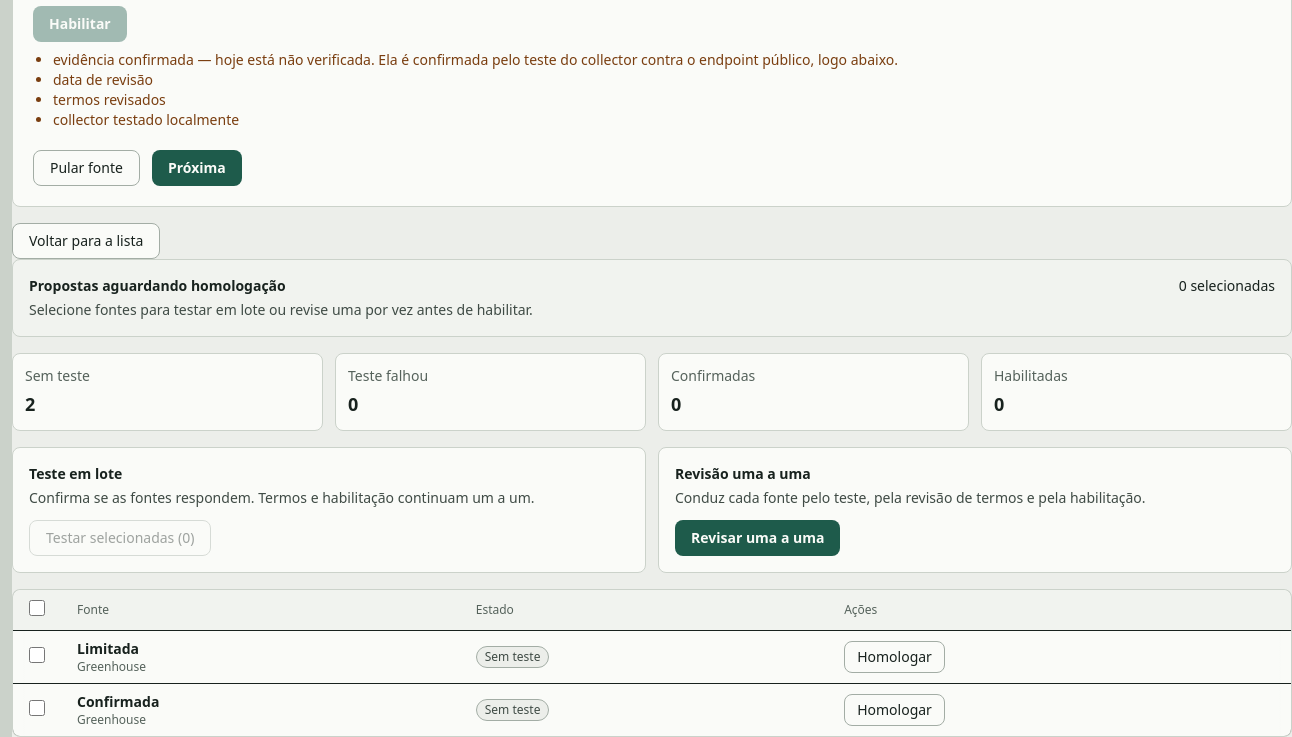
HomologationQueue › lote de sondas respeita Retry-After e mostra resultado por linha
(page scrolled)
Check: the checkbox named "Selecionar Confirmada" is shown, box [29, 700, 45, 716]
Click the checkbox named "Selecionar Limitada": (37, 654) [29, 646, 45, 662]
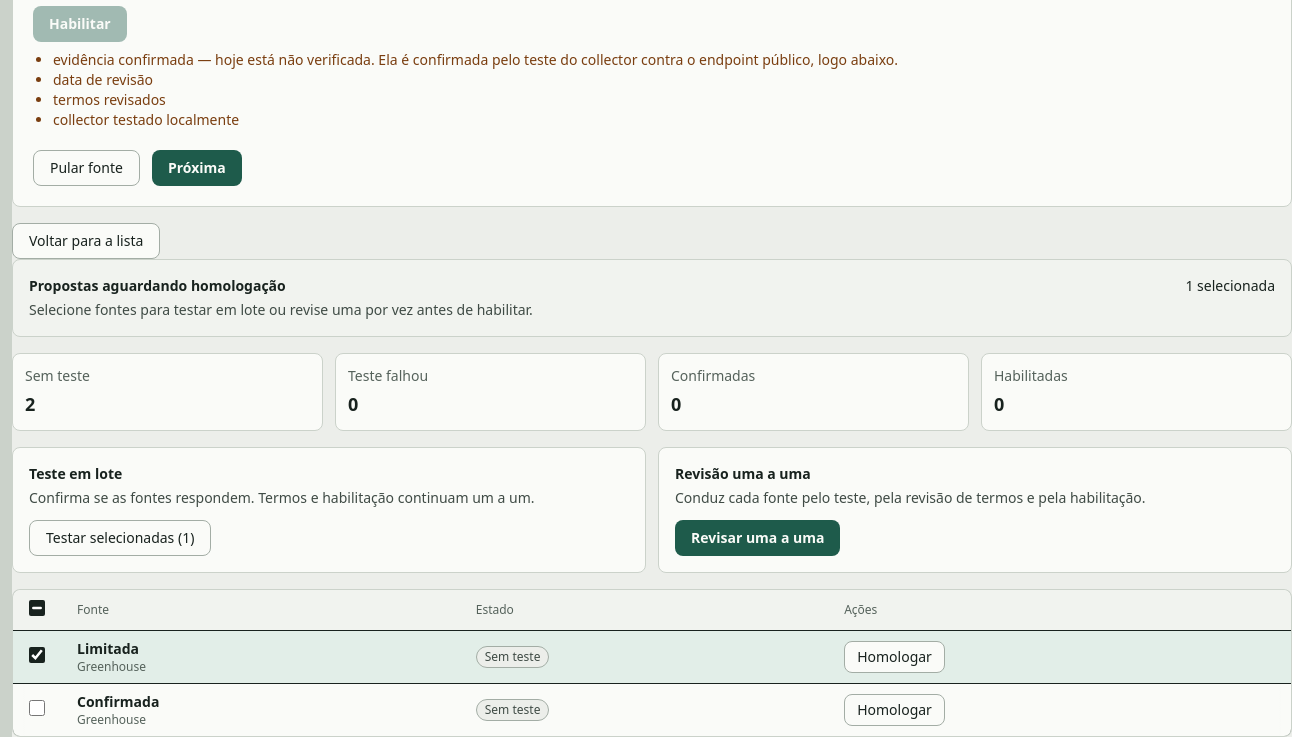
Click the checkbox named "Selecionar Confirmada": (37, 708) [29, 700, 45, 716]
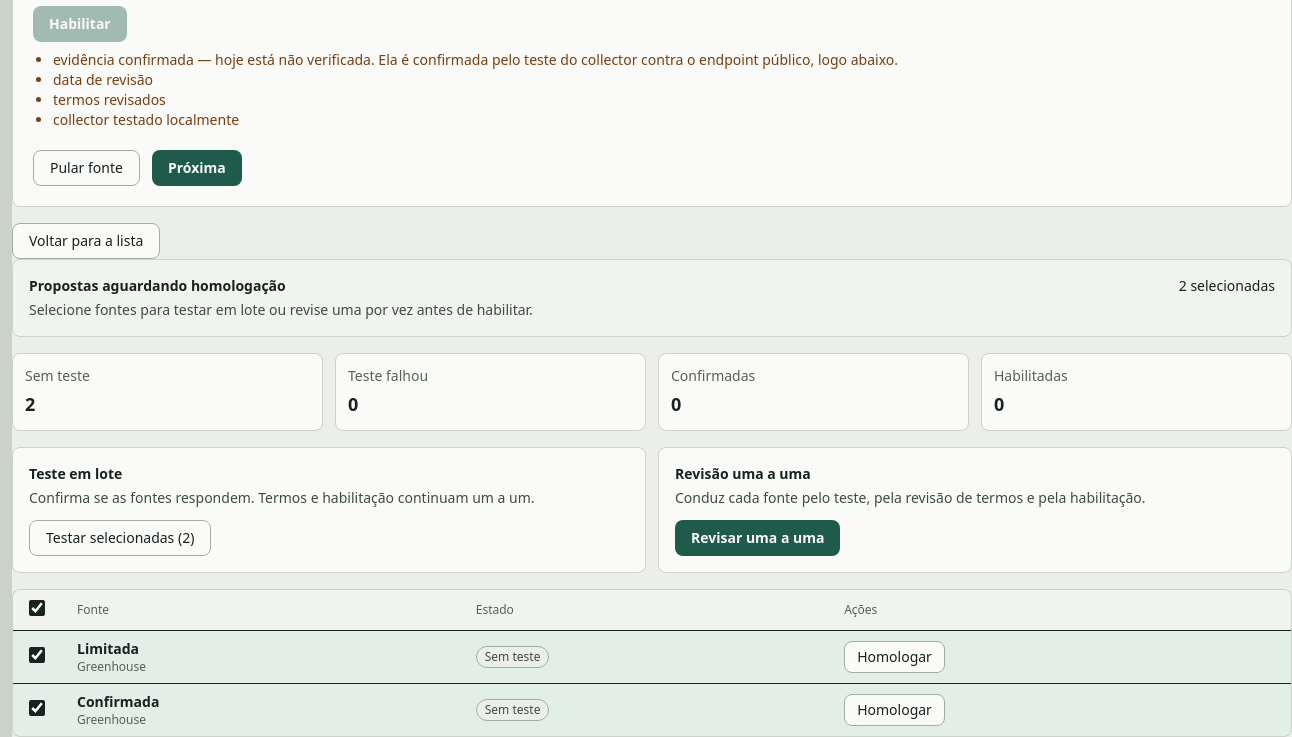
Click the button "Testar selecionadas (2)": (120, 538) [29, 520, 211, 556]
(page scrolled)
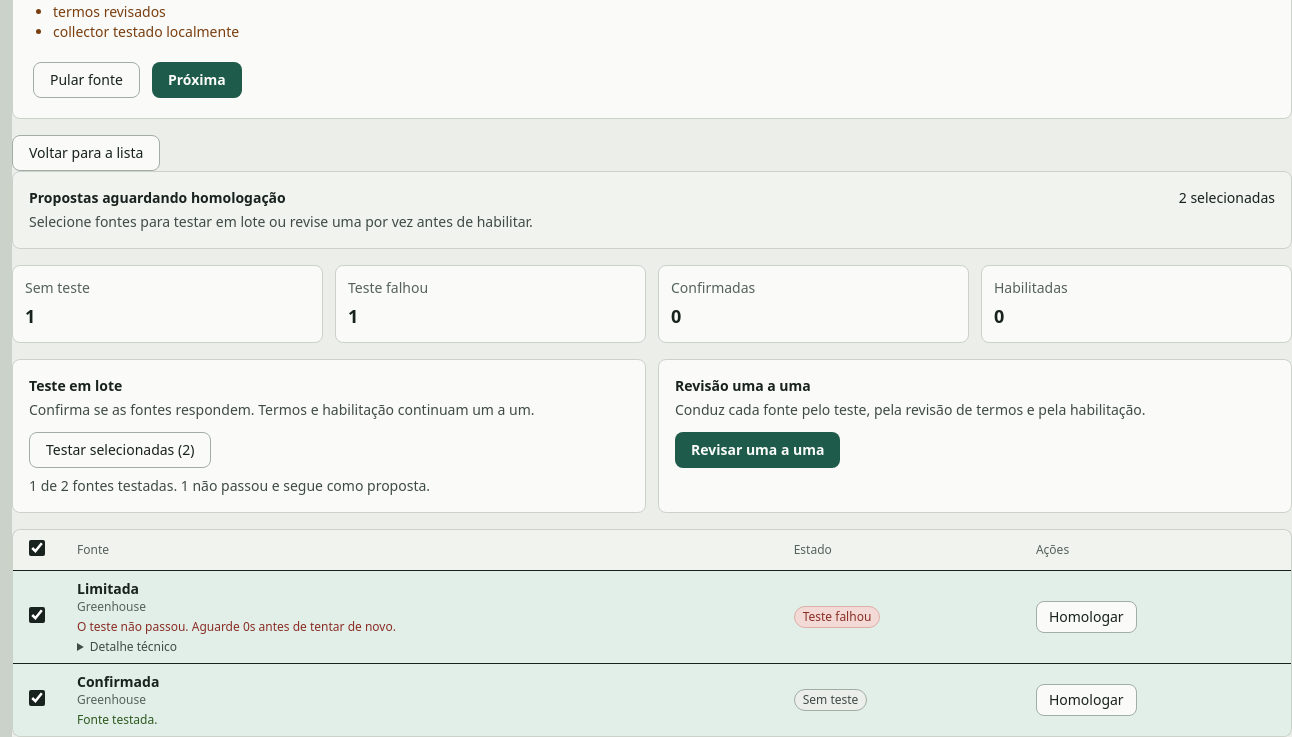
Check: the row that starts with "Limitada" shows "Aguarde 0s antes de tentar de novo", box [77, 618, 396, 635]
Check: the row "Confirmada Greenhouse Fonte testada. Sem teste Homologar" is shown, box [13, 664, 1291, 736]
